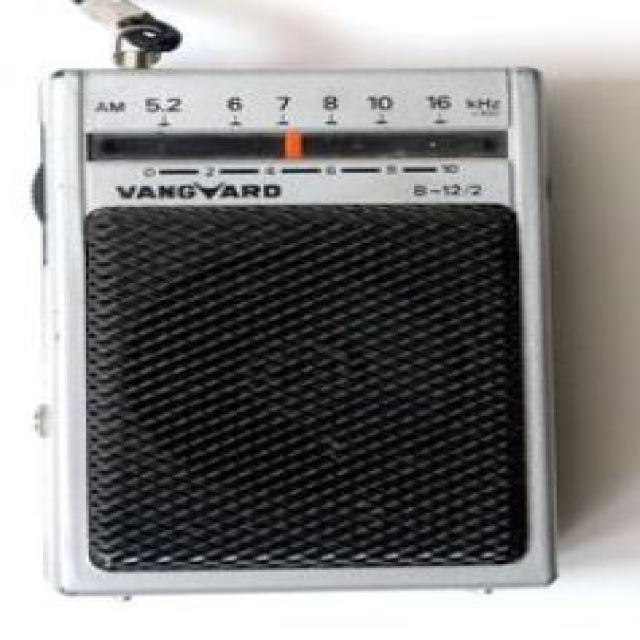electronic: (35, 63, 559, 596)
